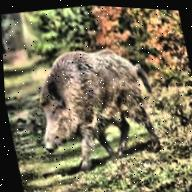boar: (17, 32, 172, 178)
